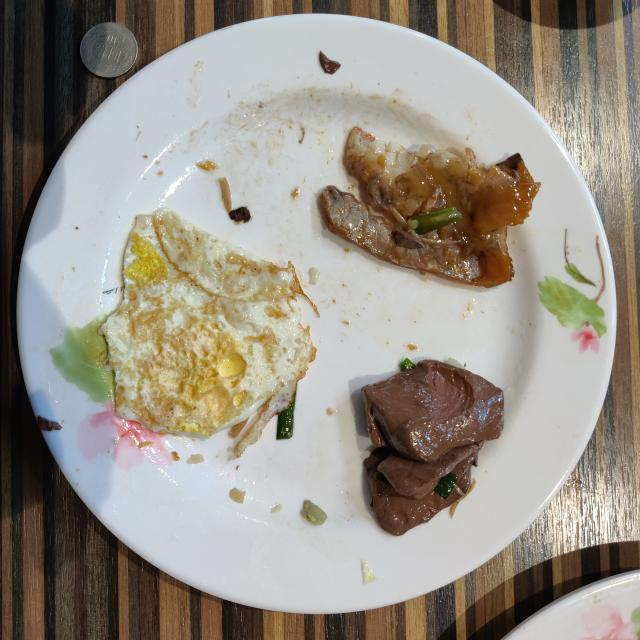Kabayaki sea bream fillet: (320, 128, 540, 288)
coin: (80, 22, 138, 78)
pig blood curd: (362, 360, 504, 535)
